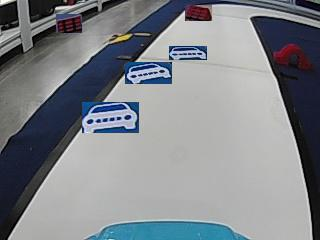bridge: (275, 41, 312, 69)
